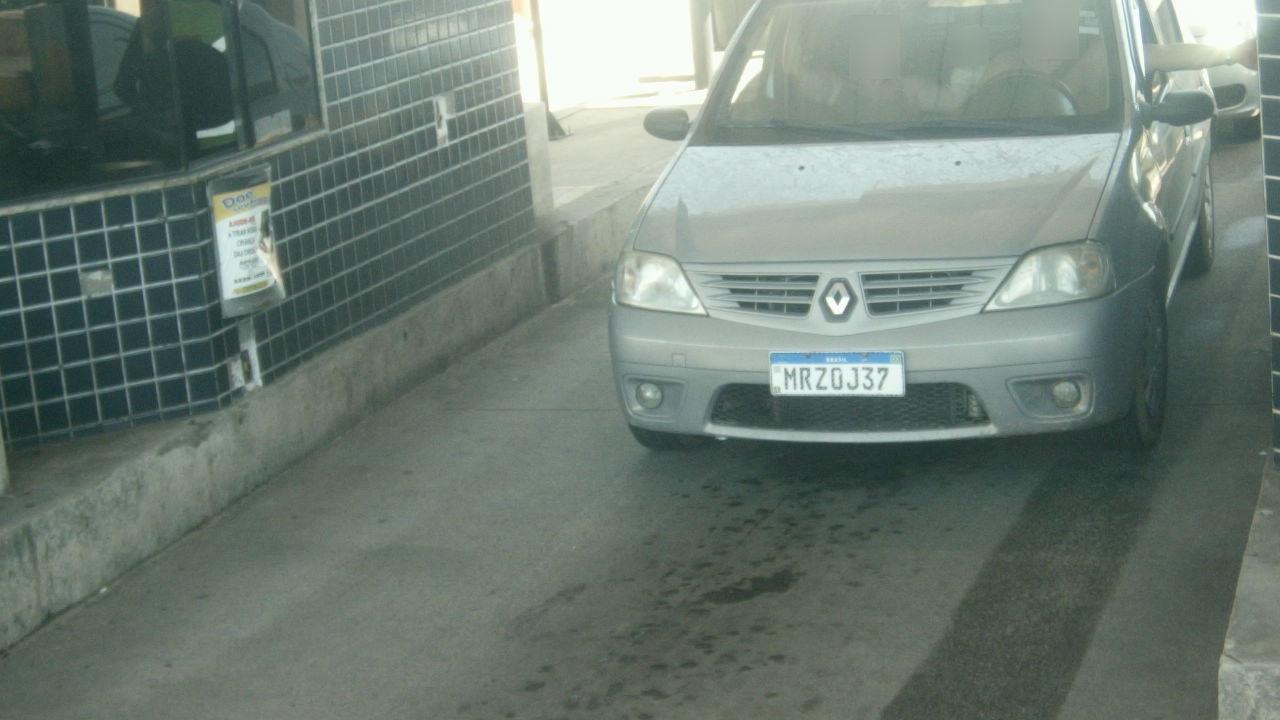placa: (769, 350, 905, 397)
